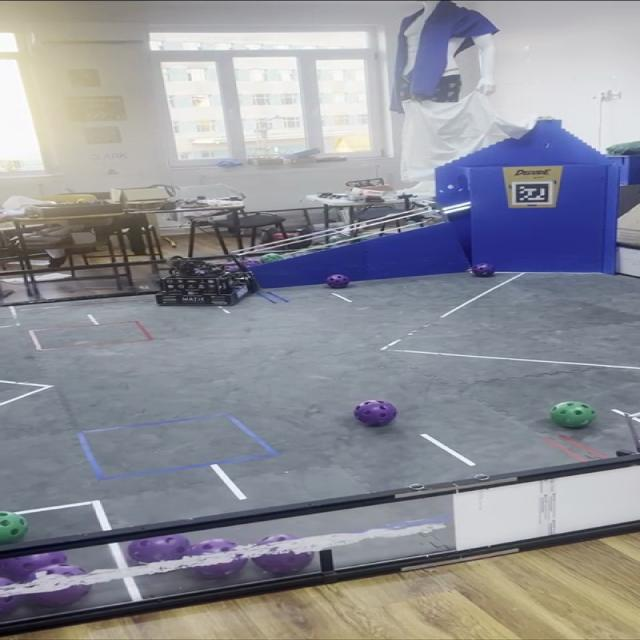artifact_green: (551, 401, 595, 427), (0, 512, 27, 544), (260, 253, 283, 263), (75, 199, 89, 203)
artifact_purple: (0, 552, 66, 581), (127, 536, 190, 563), (252, 549, 314, 574), (28, 585, 90, 607), (194, 554, 247, 577), (354, 401, 397, 426), (0, 596, 21, 616), (471, 264, 495, 277), (326, 275, 349, 288), (244, 258, 261, 269), (226, 264, 241, 272)
